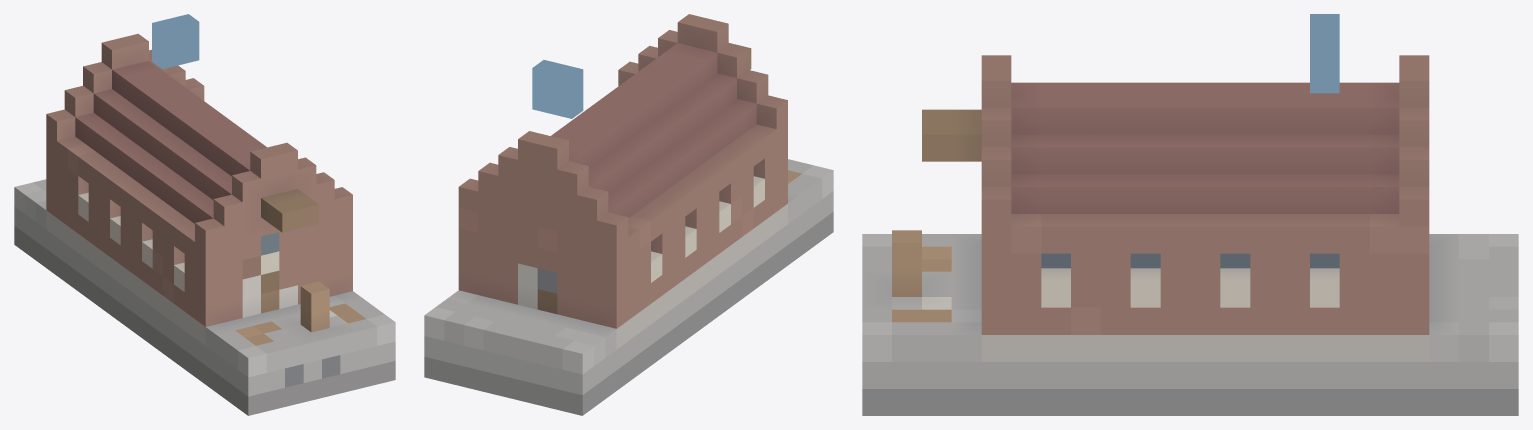
Rendered from kontor.lite.glb.
3 views of the same model, side by side, from view 1: azimuth 30°, elevation 25°; view 2: azimuth 150°, elevation 25°; view 3: azimuth 270°, elevation 25° (orthographic). The views are drawn at different scales.
Parts seen in each view (by area): view 1: kontor; view 2: kontor; view 3: kontor.
Part boxes in pixels (bbox=[...]): kontor: bbox=[14, 14, 395, 415]; kontor: bbox=[424, 14, 833, 415]; kontor: bbox=[862, 14, 1518, 415].
Bounding box in the file's own units: 4 × 6.5 × 11.
